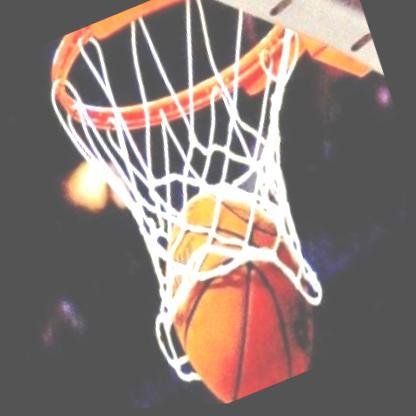basketball: (125, 152, 350, 410)
rim: (12, 0, 385, 375)
